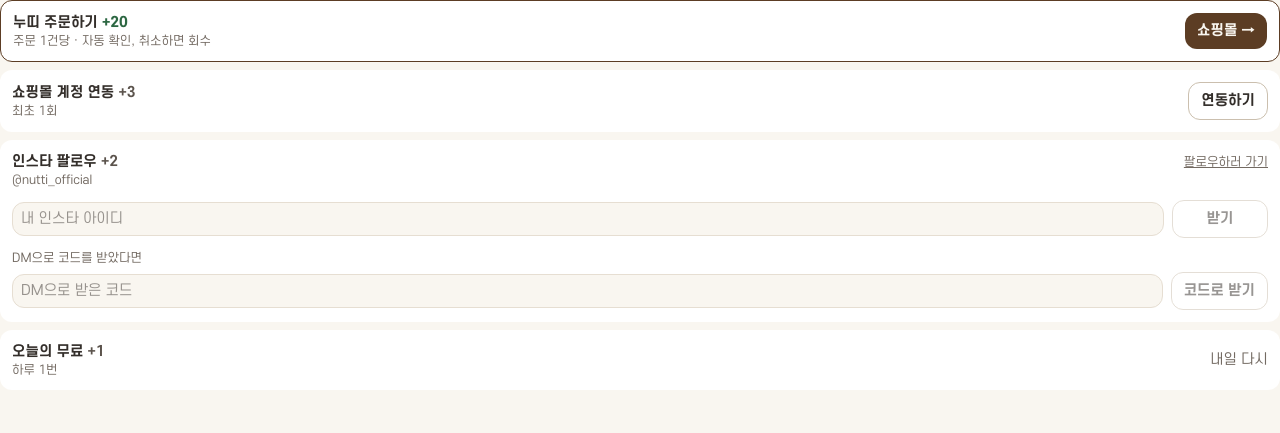
Scenario: EarnActionList › 잔액이 양수로 돌아오면 그 안내는 붙지 않는다
Type "@kong.mom" into the field named "인스타그램 아이디" at (588,219), box [12,202,1164,236]
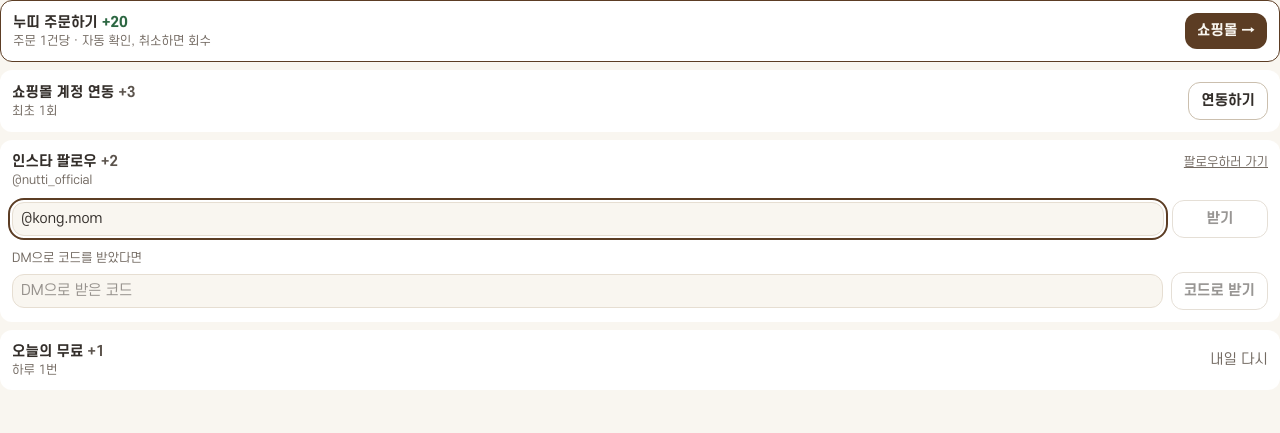
Click the link "팔로우하러 가기" at (1226,162), box [1184,154,1268,170]
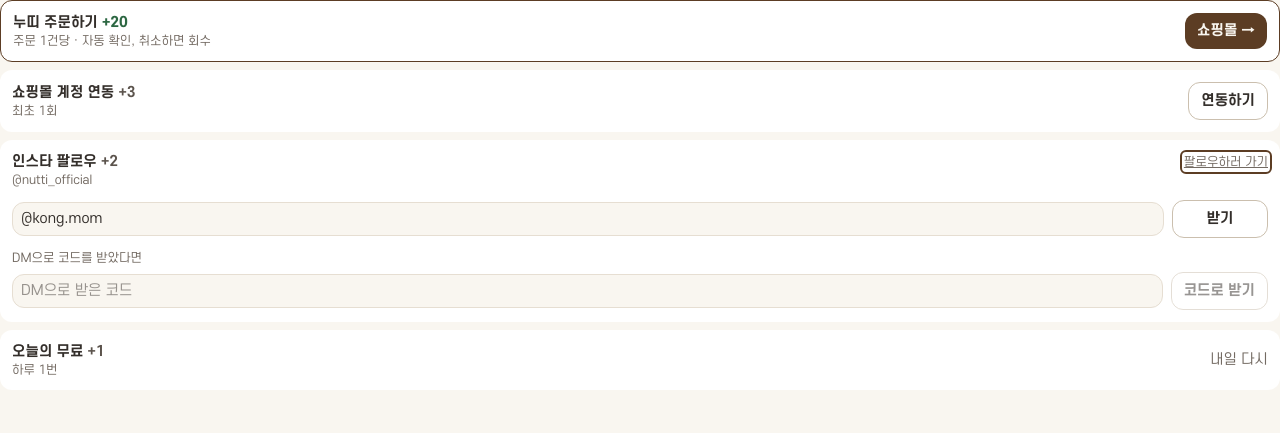
Check: the button "받기" is enabled
Click the button "받기" at (1220,219), box [1172,200,1268,238]
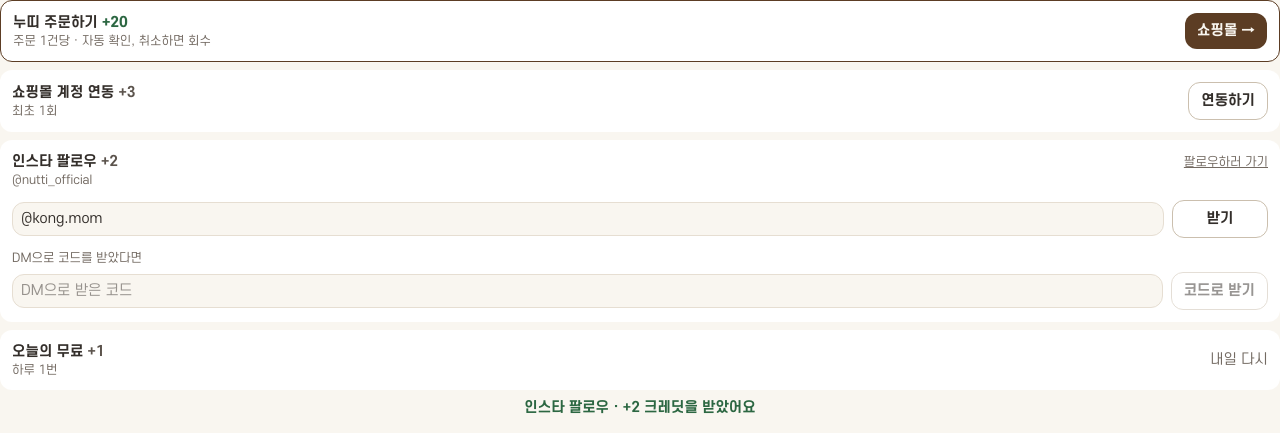
Check: the text "인스타 팔로우 · +2 크레딧을 받았어요" is shown, box [524,399,756,416]
